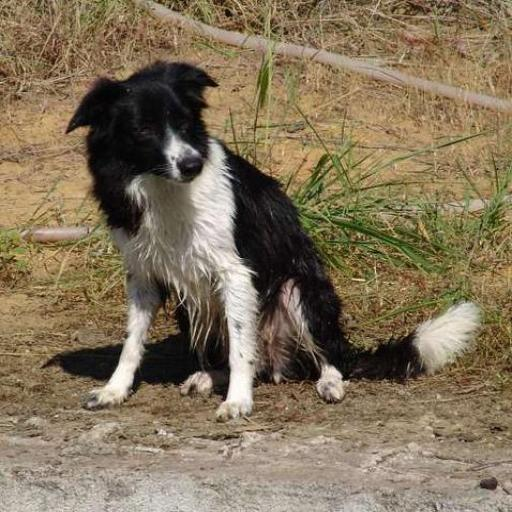dog_face: (70, 57, 218, 189)
